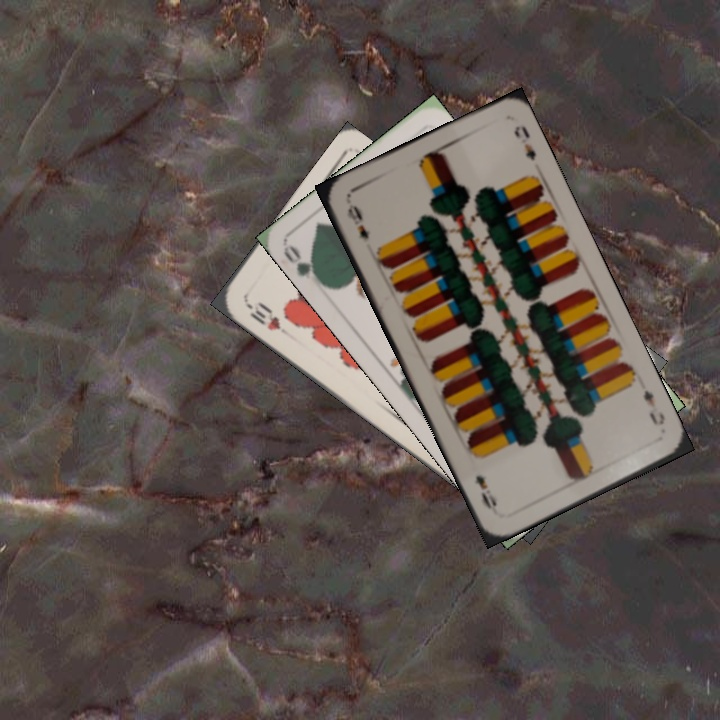E9: (639, 386, 668, 429), (343, 200, 372, 241)
GO: (279, 241, 328, 289)
H10: (241, 297, 284, 333)
